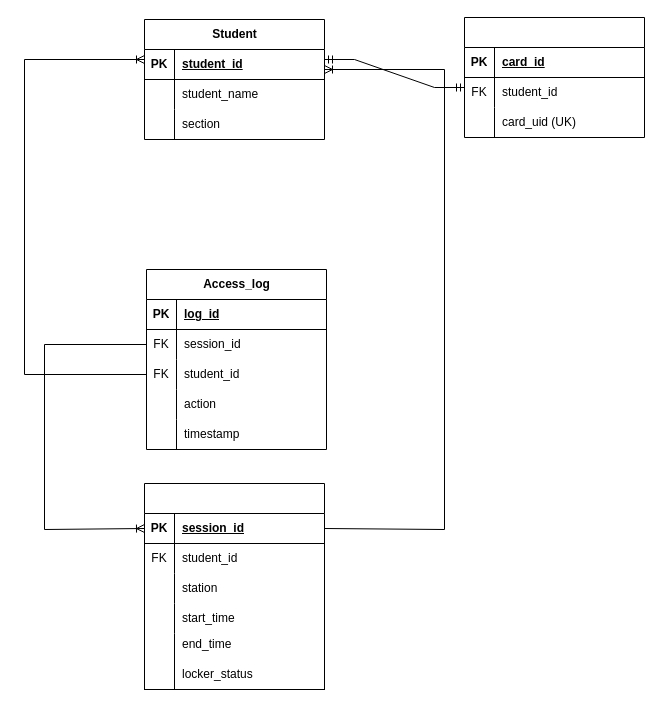
The diagram is 662 pixels wide and 707 high, and some of its shapes have lost their labels. Each missing label, with the box of its shape:
Locker_Session: (144, 482, 324, 690)
NFC_Card: (464, 16, 644, 138)
